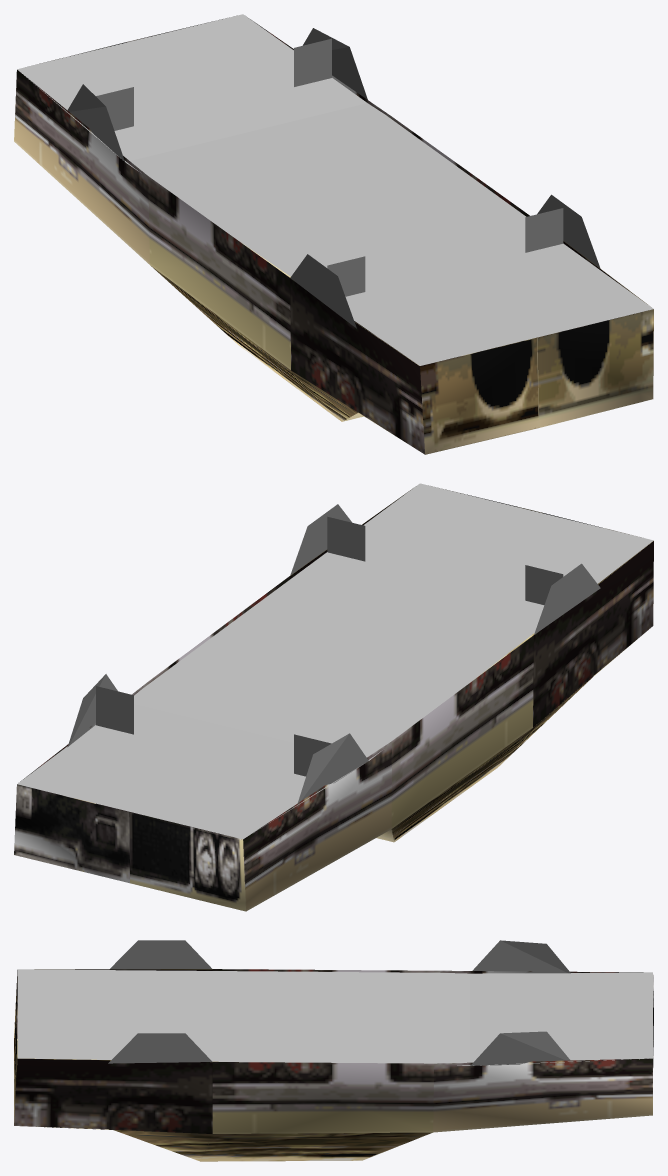
File: CHICAGO_model12_low.obj
The picture shows the model from 3 angles, top to bottom: view 1: azimuth 30°, elevation 25°; view 2: azimuth 150°, elevation 25°; view 3: azimuth 270°, elevation 25°; orthographic projection. The views are drawn at different scales.
Parts seen in each view (by area): view 1: CHICAGO_model12_low; view 2: CHICAGO_model12_low; view 3: CHICAGO_model12_low.
Boxes of the visible parts, bbox=[...] form: CHICAGO_model12_low: bbox=[14, 14, 653, 454]; CHICAGO_model12_low: bbox=[14, 483, 653, 911]; CHICAGO_model12_low: bbox=[14, 940, 653, 1161].
Size of the model in its own units: 250 by 182 by 728.
